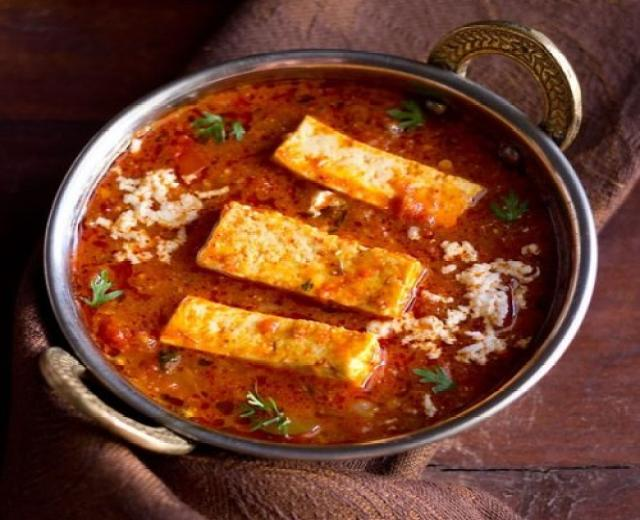kadai paneer: (38, 38, 600, 458)
